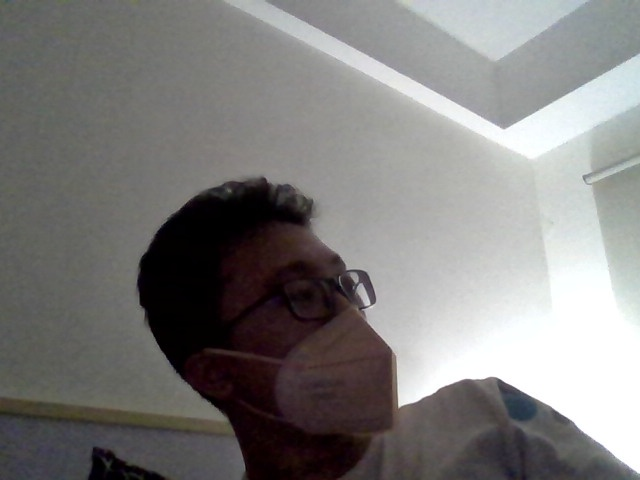Drowsy: (131, 176, 420, 468)
